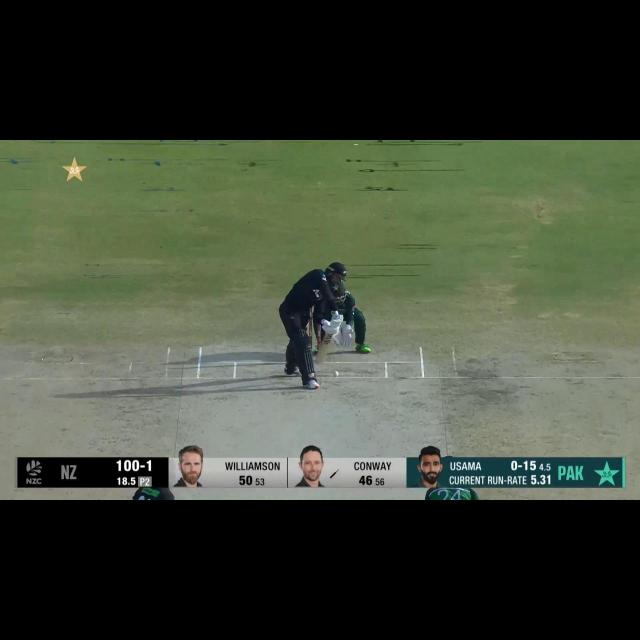bat: (316, 330, 335, 367)
toe: (314, 353, 329, 365)
